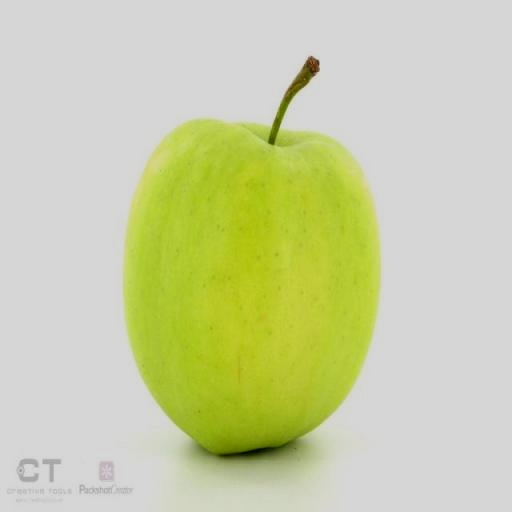fruit: (124, 58, 379, 453)
